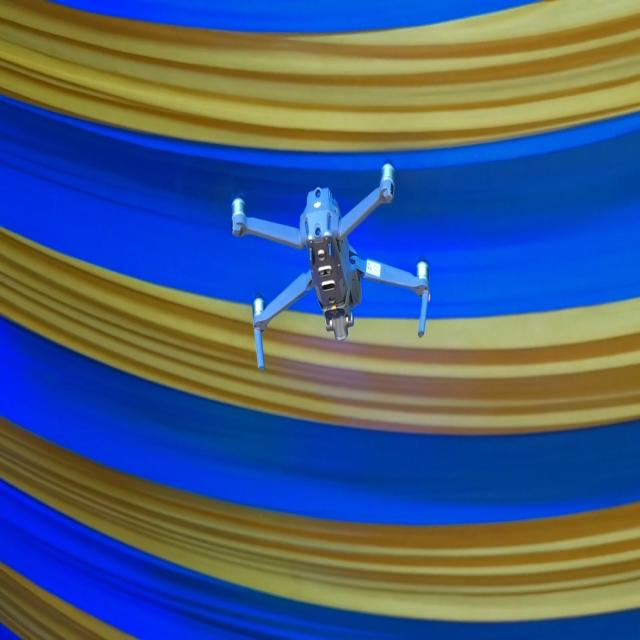Drone: (231, 162, 427, 369)
